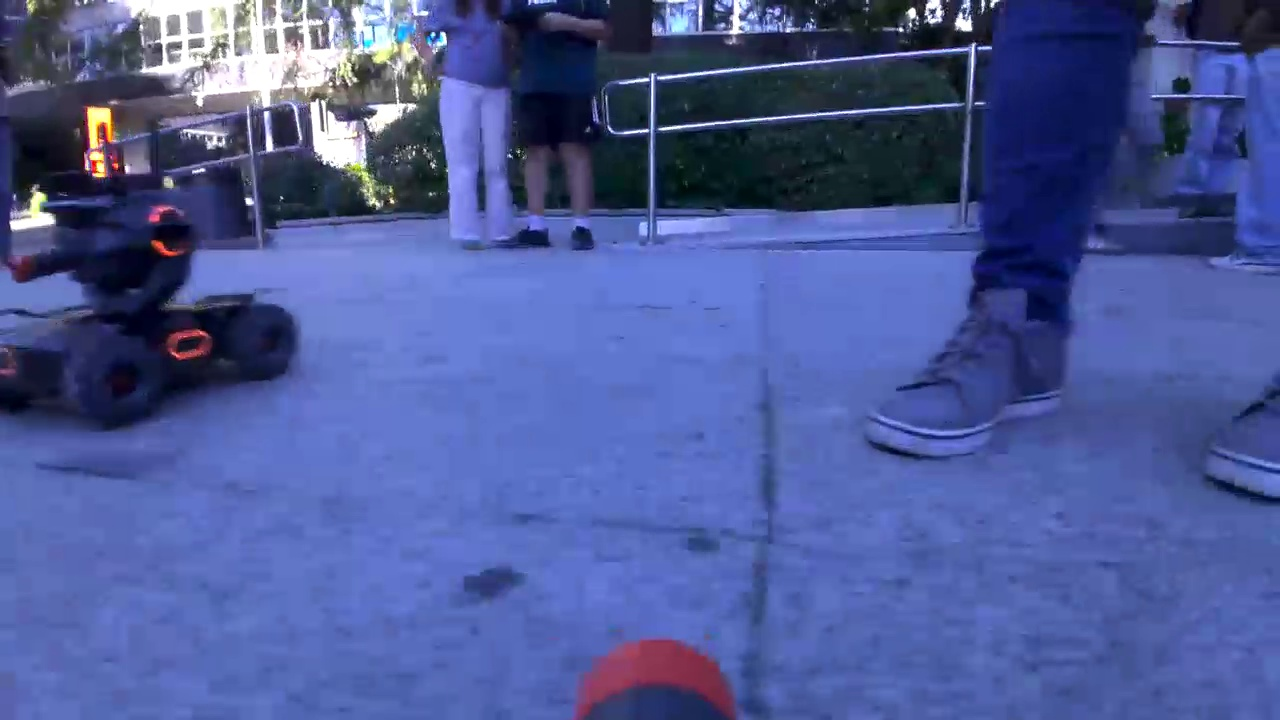robot: (1, 169, 299, 432)
